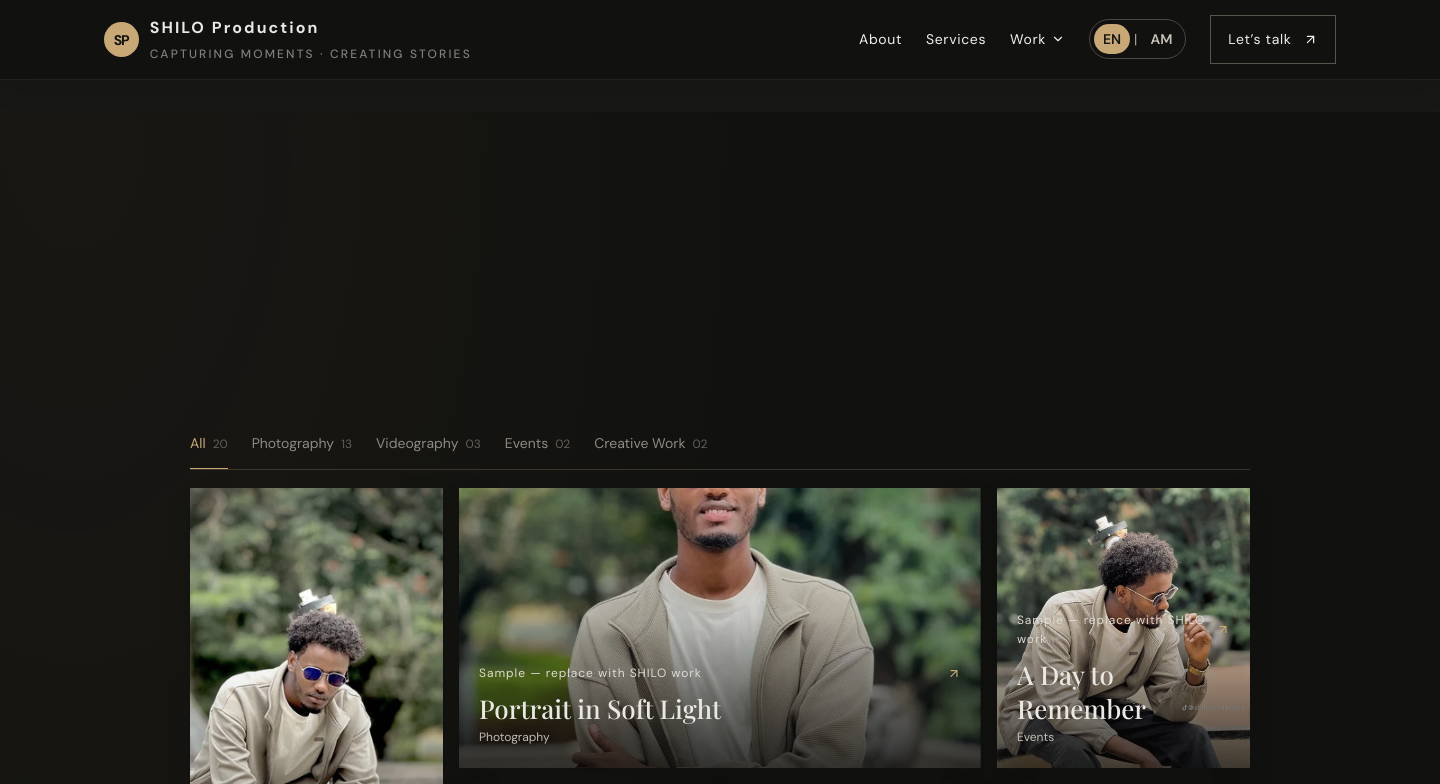
it: SHILO Production homepage › filters portfolio projects by category
(page scrolled)
Click the button "Events02".
click(538, 448)  # box [505,427,570,469]
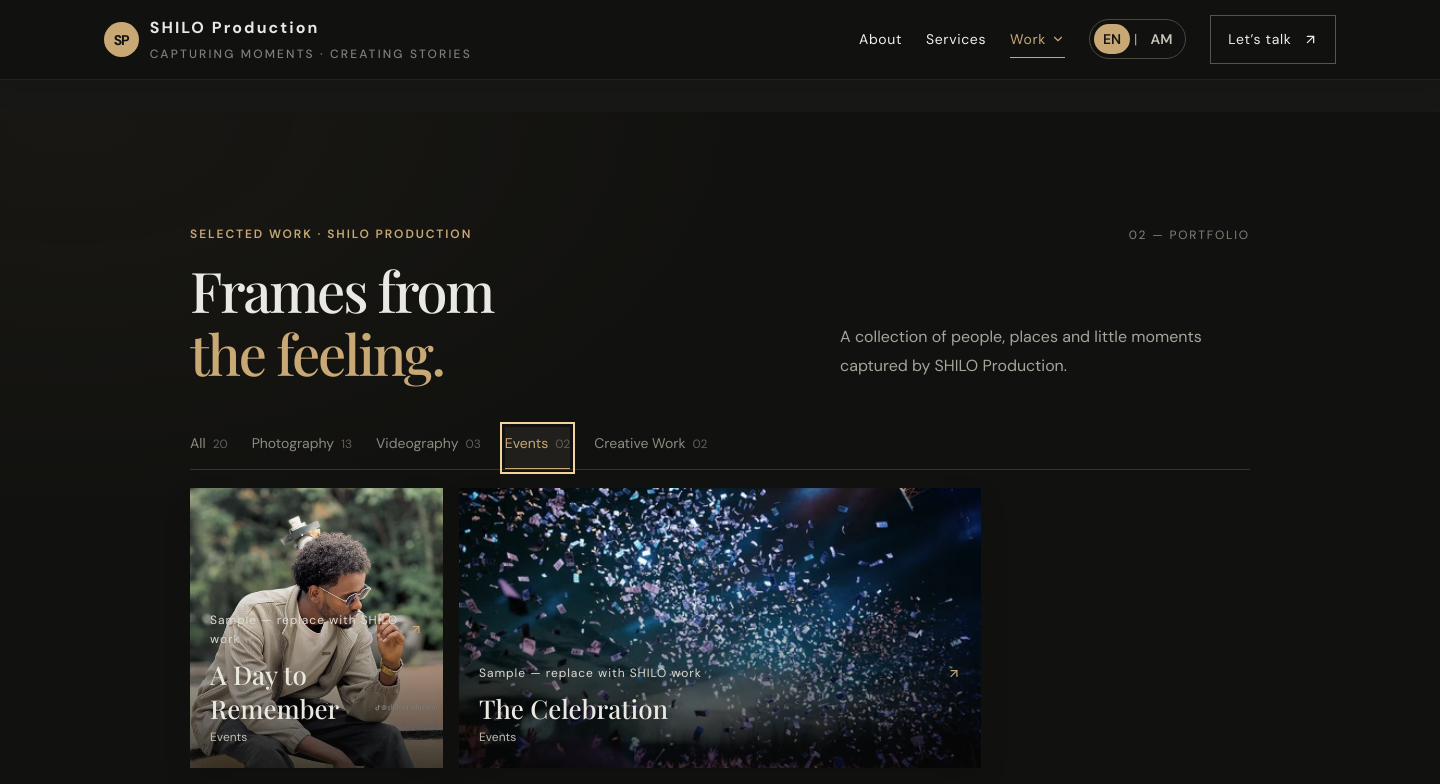
Expected: the button "Sample — replace with SHILO work A Day to Remember Events" is shown, [190,488,443,768]
Now the button "Events02" is pressed, box [505,427,570,469]
Now the button "All20" is not pressed, box [190,427,228,469]
